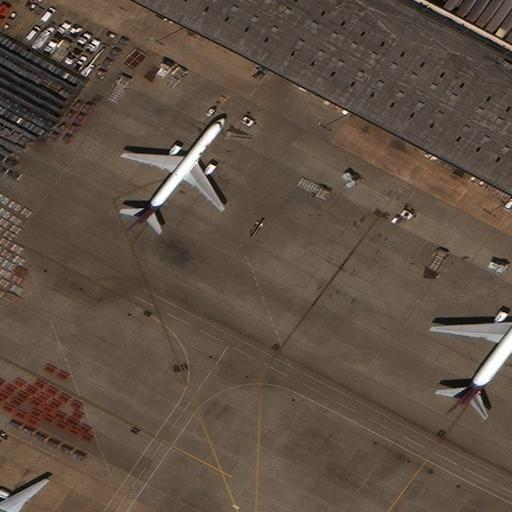Large Civil Transport: (121, 118, 226, 225), (431, 295, 511, 406), (0, 478, 55, 512)
